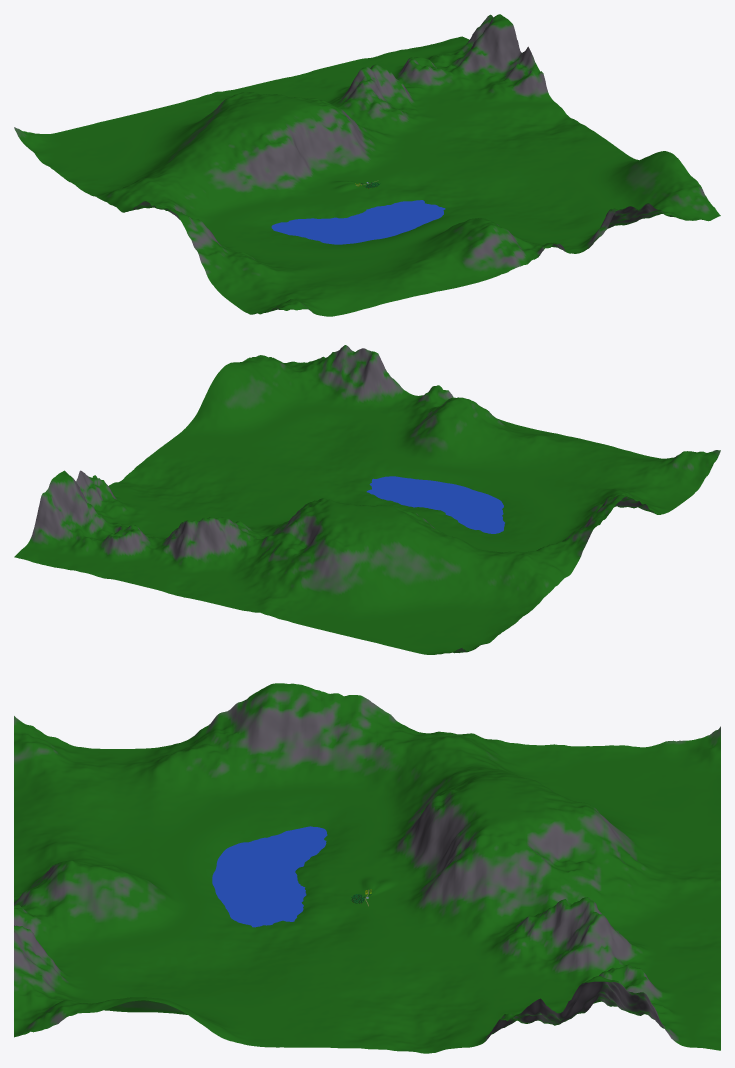
Rendered from enviro-test.glb.
The picture shows the model from 3 angles, top to bottom: view 1: azimuth 30°, elevation 25°; view 2: azimuth 150°, elevation 25°; view 3: azimuth 270°, elevation 25°; orthographic projection. The views are drawn at different scales.
Parts seen in each view (by area): view 1: Landscape-col, e-waterplane; view 2: Landscape-col, e-waterplane; view 3: Landscape-col, e-waterplane.
Boxes of the visible parts, left/top/right/bottom form: Landscape-col: left=14, top=14, right=720, bottom=316; e-waterplane: left=271, top=200, right=445, bottom=244; Landscape-col: left=14, top=345, right=720, bottom=654; e-waterplane: left=366, top=476, right=504, bottom=533; Landscape-col: left=14, top=683, right=720, bottom=1053; e-waterplane: left=212, top=826, right=327, bottom=927.
Size of what is drawn, in the model's own units: 6246 by 794 by 6246.
